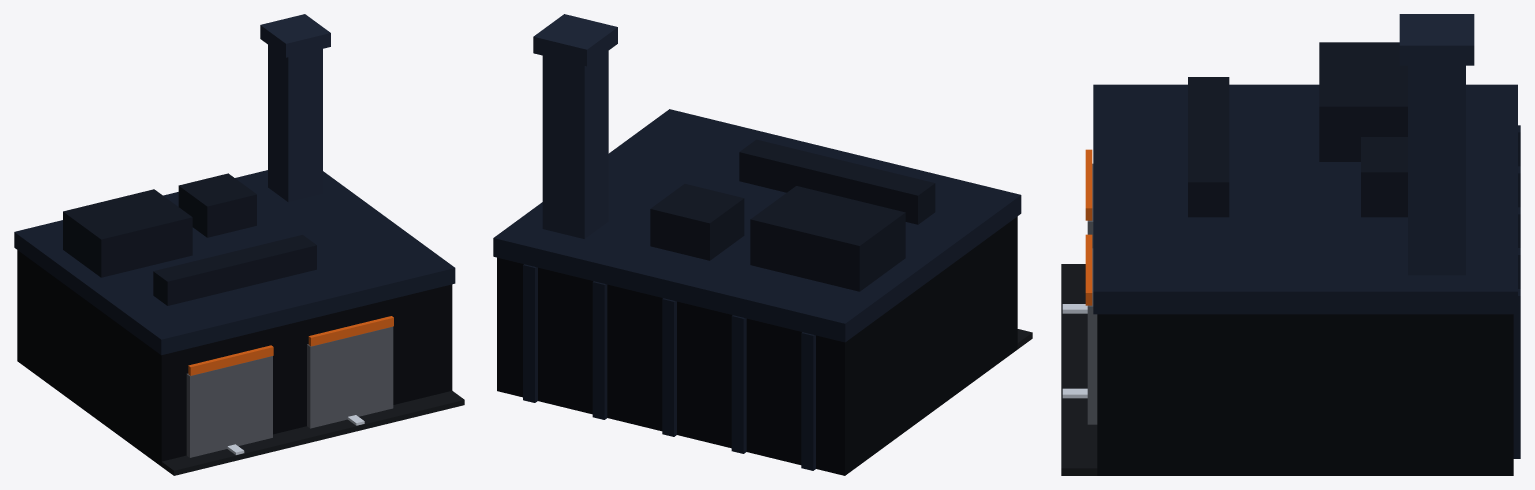
File: works1.obj
3 renders of one model, left to right at view 1: azimuth 30°, elevation 25°; view 2: azimuth 150°, elevation 25°; view 3: azimuth 270°, elevation 25°, orthographic. The views are drawn at different scales.
Visible parts, largest first — view 1: shed, roof, roof-vents, roller-doors, stack, apron, bay-lights; view 2: shed, roof, roof-vents, stack, ribs; view 3: roof, shed, roof-vents, stack, apron, ribs, roller-doors, bay-lights, bay-markings.
Part boxes in pixels (left/top/right/bottom): shed: left=17, top=250, right=452, bottom=466; roof: left=14, top=170, right=455, bottom=355; roof-vents: left=63, top=173, right=316, bottom=305; roller-doors: left=186, top=326, right=393, bottom=457; stack: left=260, top=14, right=330, bottom=202; apron: left=161, top=390, right=464, bottom=475; bay-lights: left=188, top=316, right=393, bottom=375; shed: left=497, top=216, right=1017, bottom=475; roof: left=493, top=109, right=1021, bottom=342; roof-vents: left=650, top=139, right=935, bottom=291; stack: left=533, top=14, right=617, bottom=238; ribs: left=523, top=264, right=815, bottom=470; roof: left=1093, top=84, right=1517, bottom=314; shed: left=1097, top=314, right=1513, bottom=475; roof-vents: left=1188, top=42, right=1407, bottom=217; stack: left=1399, top=14, right=1474, bottom=275; apron: left=1061, top=264, right=1097, bottom=475; ribs: left=1513, top=125, right=1520, bottom=458; roller-doors: left=1087, top=163, right=1097, bottom=424; bay-lights: left=1085, top=149, right=1092, bottom=305; bay-markings: left=1062, top=304, right=1087, bottom=398.
Bounding box in the file's own units: 3.54 × 3.34 × 3.32.
